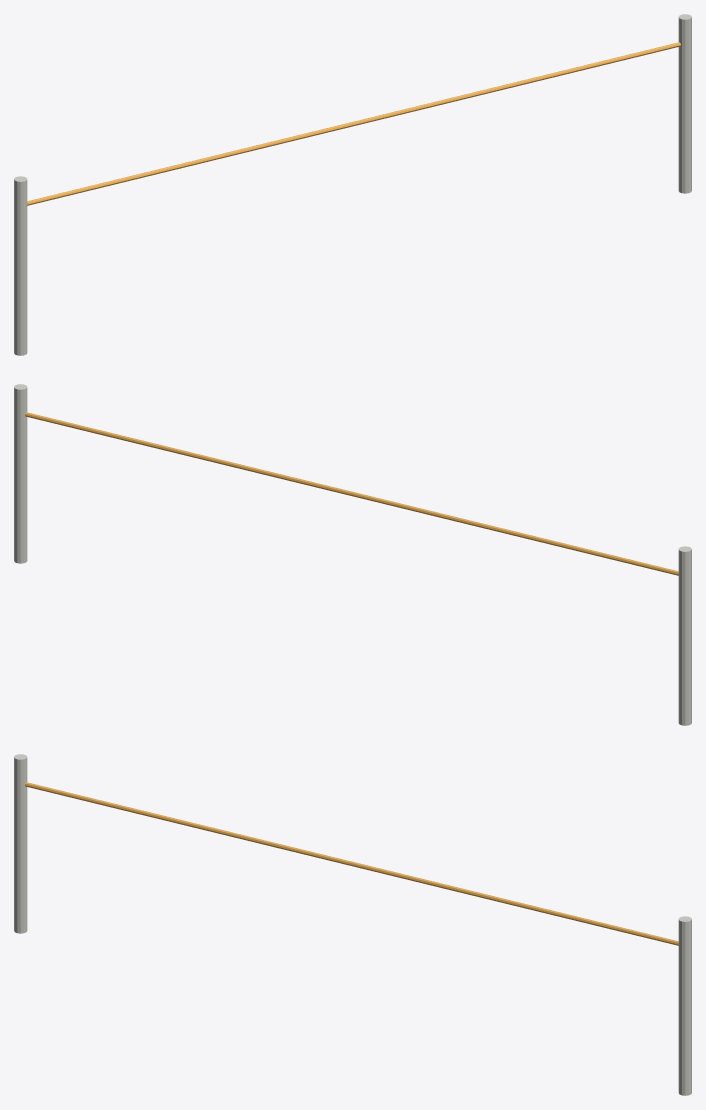
File: touchline-rope-d43e3c7e.glb
3 views of the same model, one above another, from view 1: azimuth 30°, elevation 25°; view 2: azimuth 150°, elevation 25°; view 3: azimuth 330°, elevation 25° (orthographic).
Visible parts, largest first — view 1: touchline-rope; view 2: touchline-rope; view 3: touchline-rope.
Part boxes in pixels (x1=…): touchline-rope: x1=14, y1=14, x2=691, y2=355; touchline-rope: x1=14, y1=384, x2=691, y2=725; touchline-rope: x1=14, y1=754, x2=691, y2=1095.
Size of the model in its own units: 4.07 by 1 by 0.0701.
